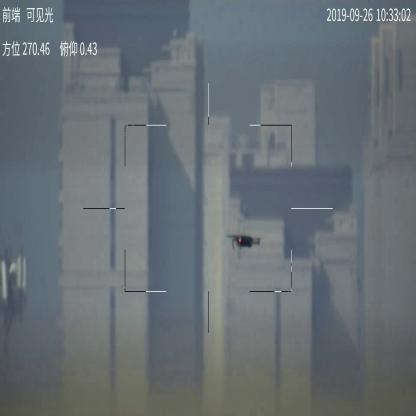uav: (225, 232, 265, 250)
